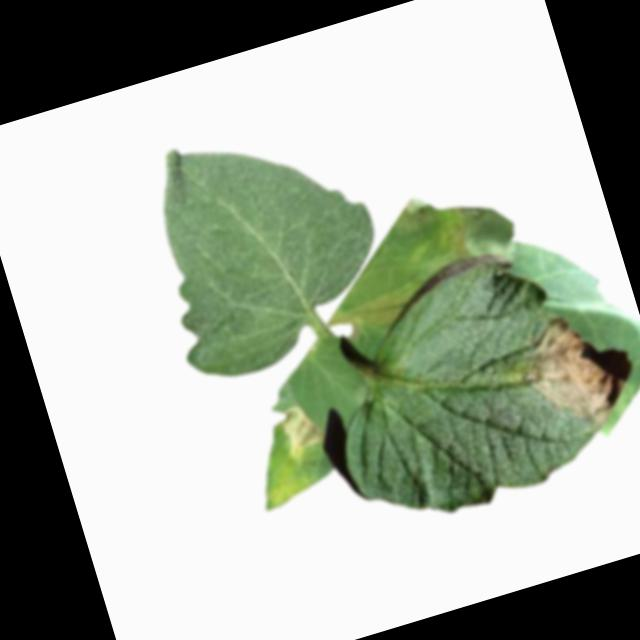Late_blight: (513, 304, 635, 445), (433, 194, 524, 283), (273, 397, 331, 467), (386, 188, 443, 237)
healthy: (126, 100, 406, 390)
